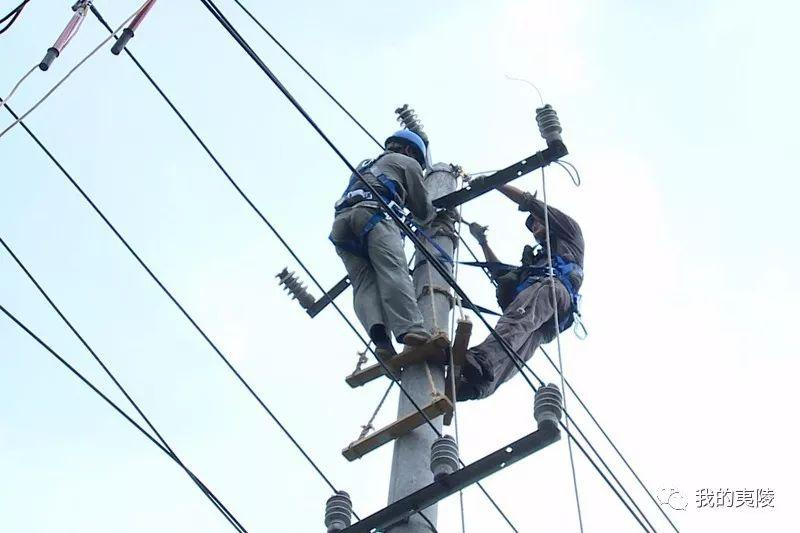helmet: (388, 129, 433, 160)
